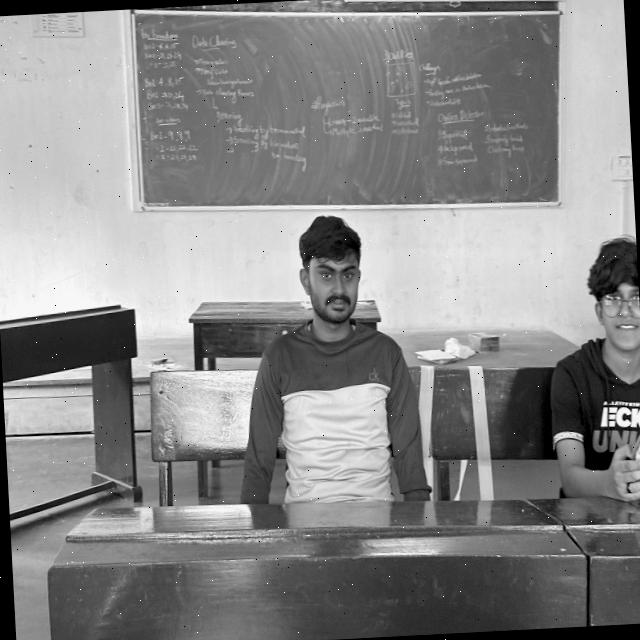Helmet: (244, 302, 459, 554), (539, 324, 640, 522)
